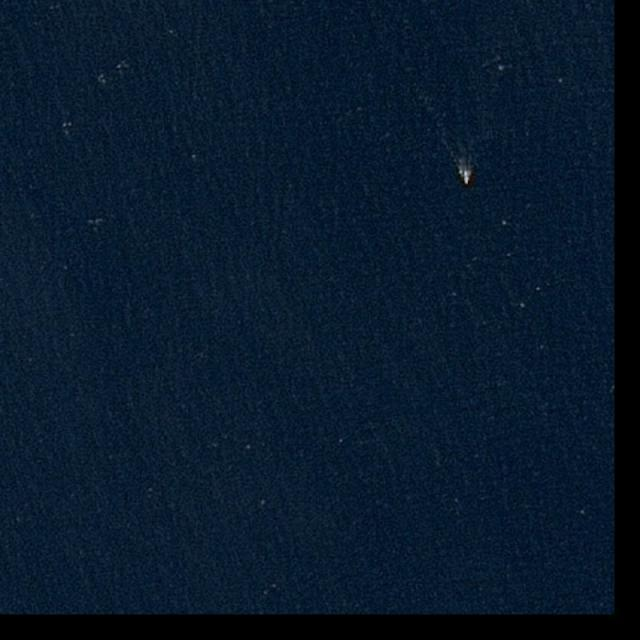ship: (463, 170, 469, 185)
